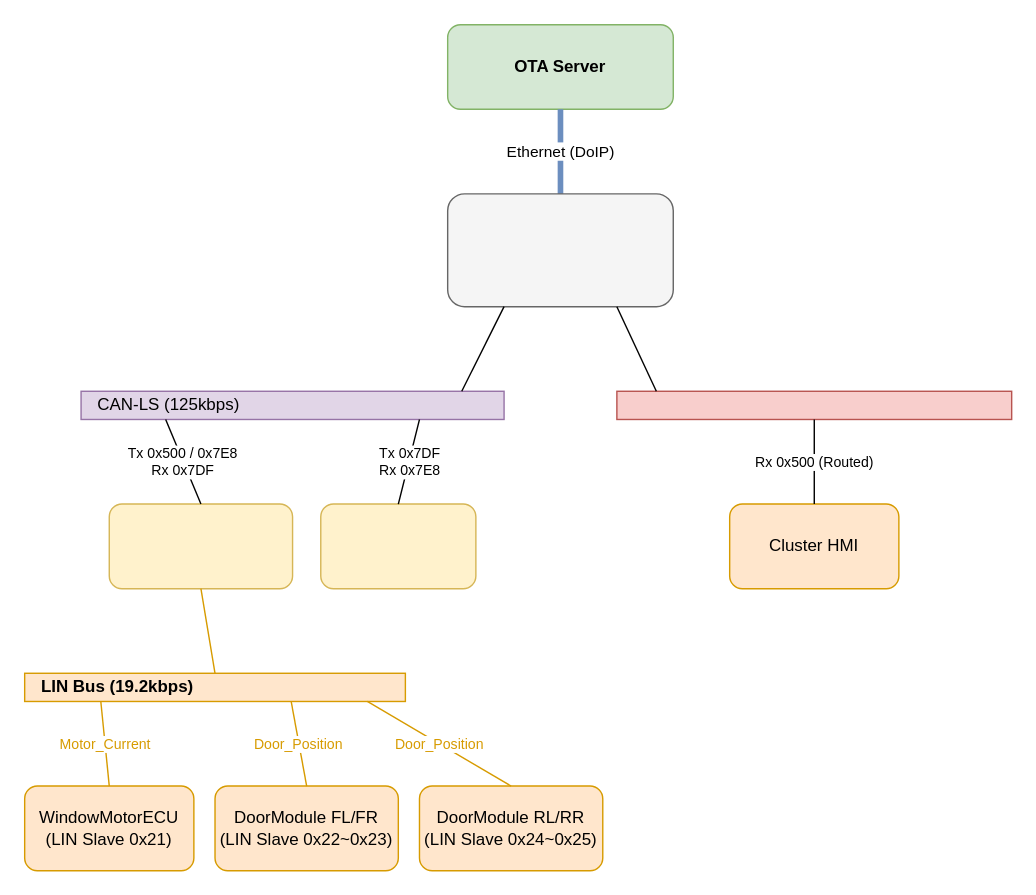
Image size: 1036x895. Some labels were removed from this diagram. Here are the shapes that lost their labels. From the top down, the centre of each, then its label:
(x=559, y=249): Central Gateway (CGW) [Routing Hub]
(x=813, y=404): CAN-HS (500kbps)
(x=200, y=546): BCM (LIN Master)
(x=397, y=546): Tester (Ext)
